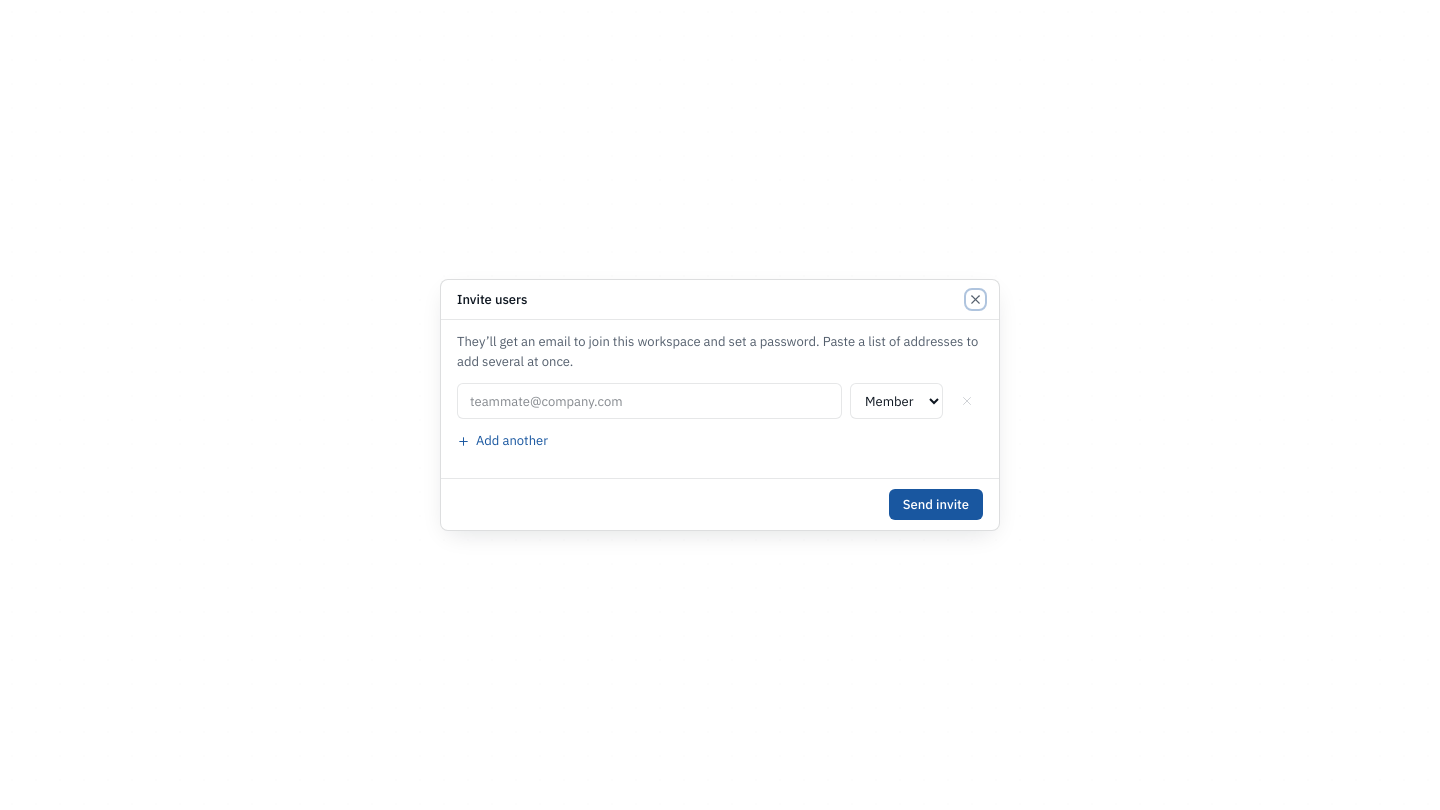
it: a refusal the user can see › puts the cursor on the BAD row, not the first one
Type "good@example.com" into the field with placeholder "teammate@company.com" at (650,401), box [457,383,842,419]
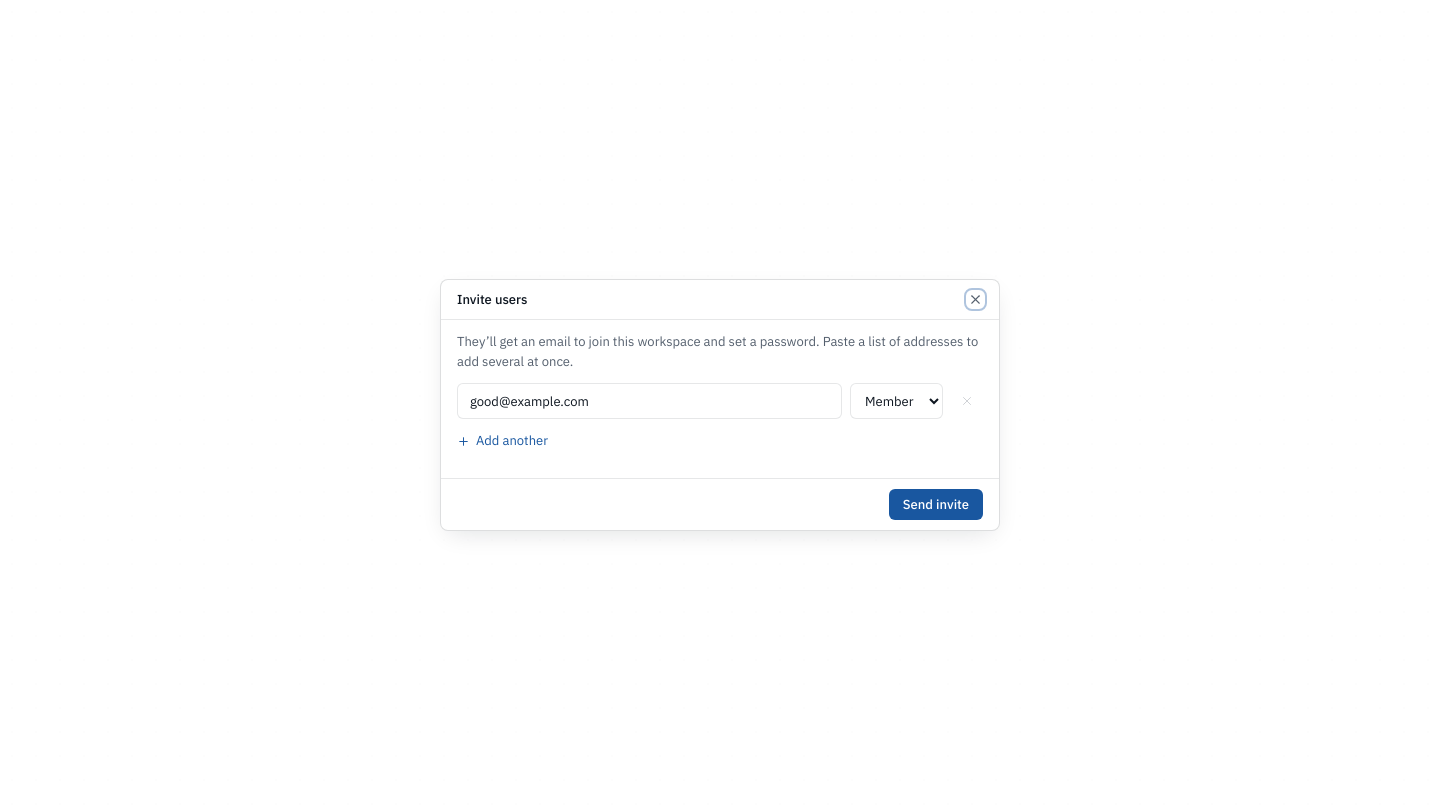
Click the button "Add another" at (502,441), box [457,431,548,451]
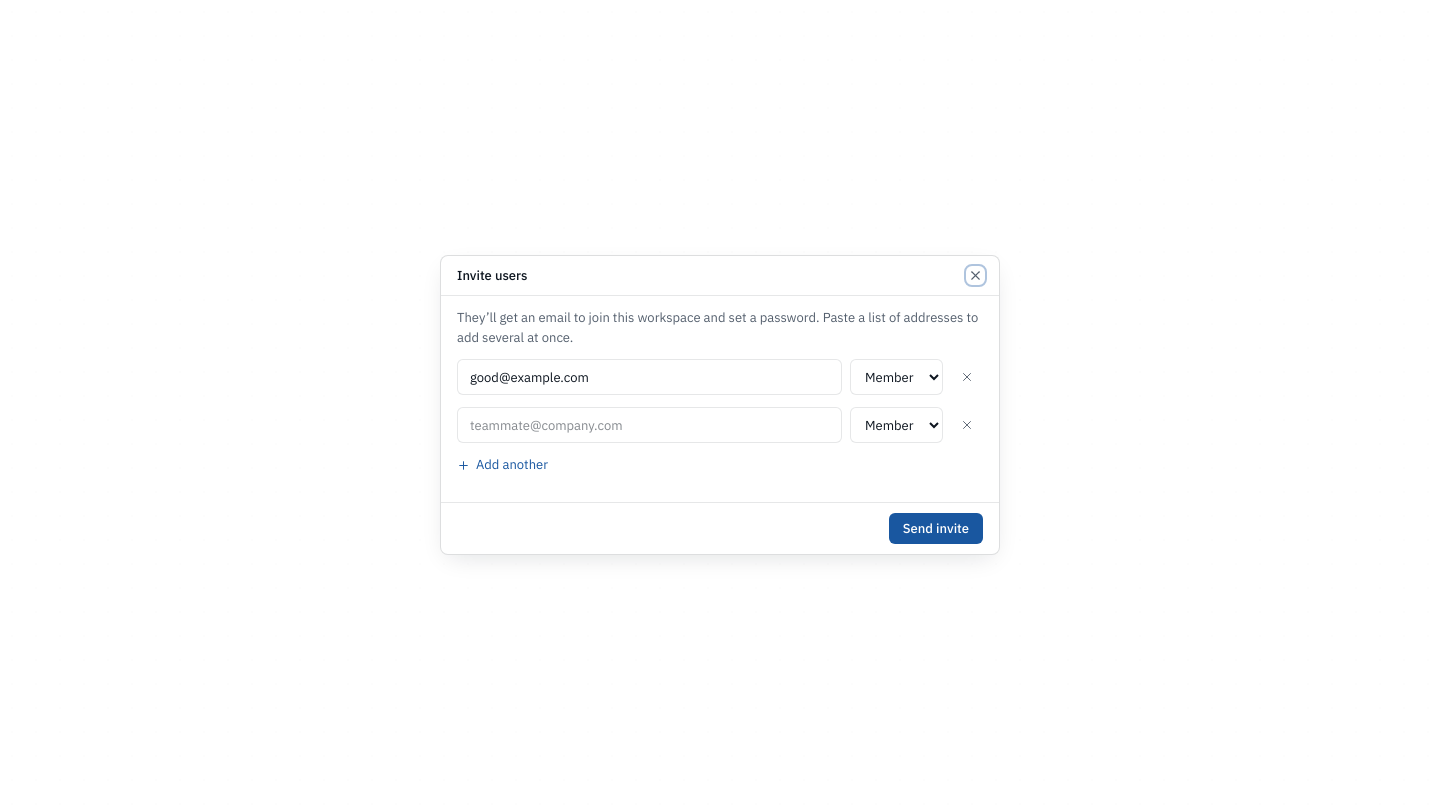
Type "nope" into the field with placeholder "teammate@company.com" at (650,425), box [457,407,842,443]
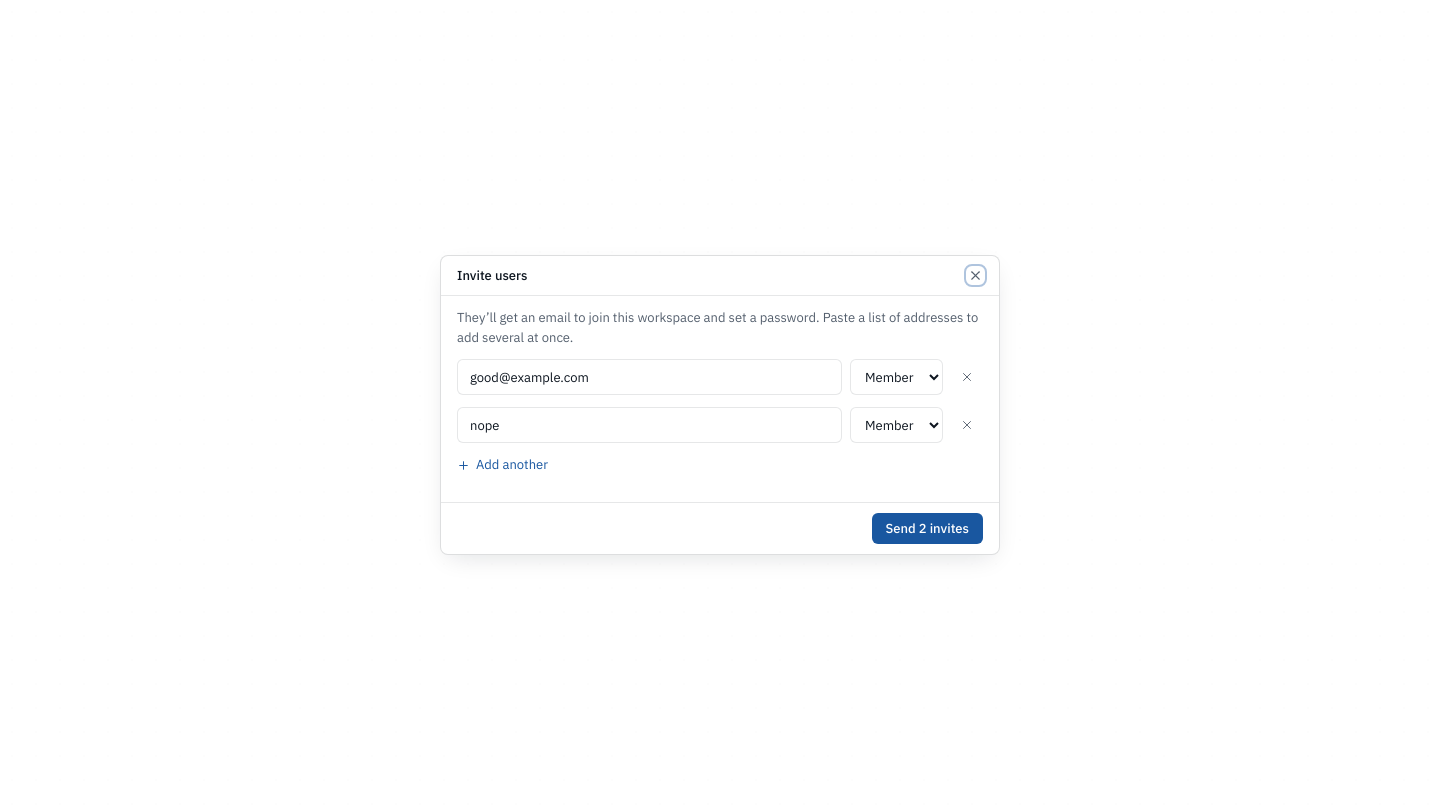
Click the button "Send 2 invites" at (927,528), box [872,513,983,544]
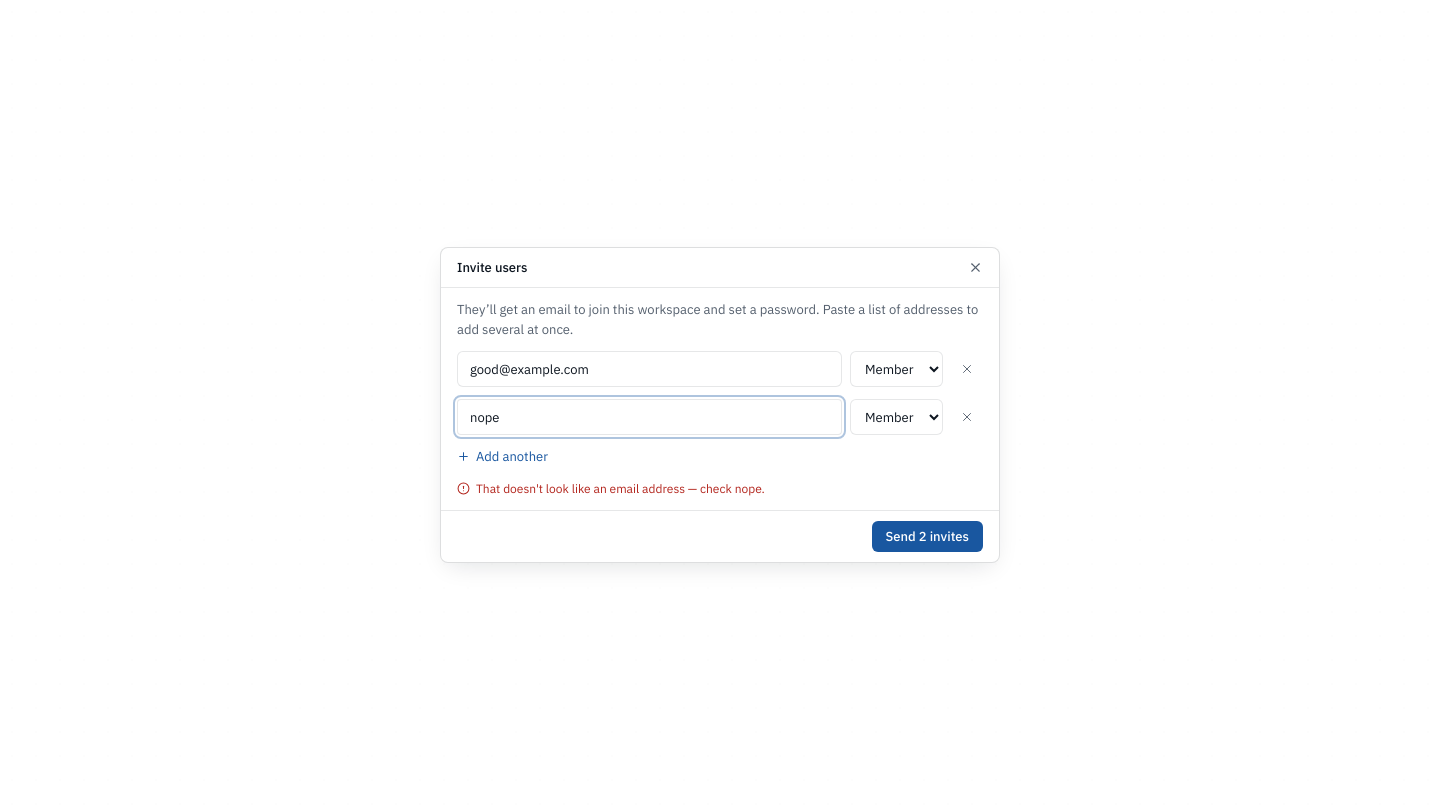
Check: the text "That doesn't look like an email address — check nope." is shown, box [476,481,765,498]
